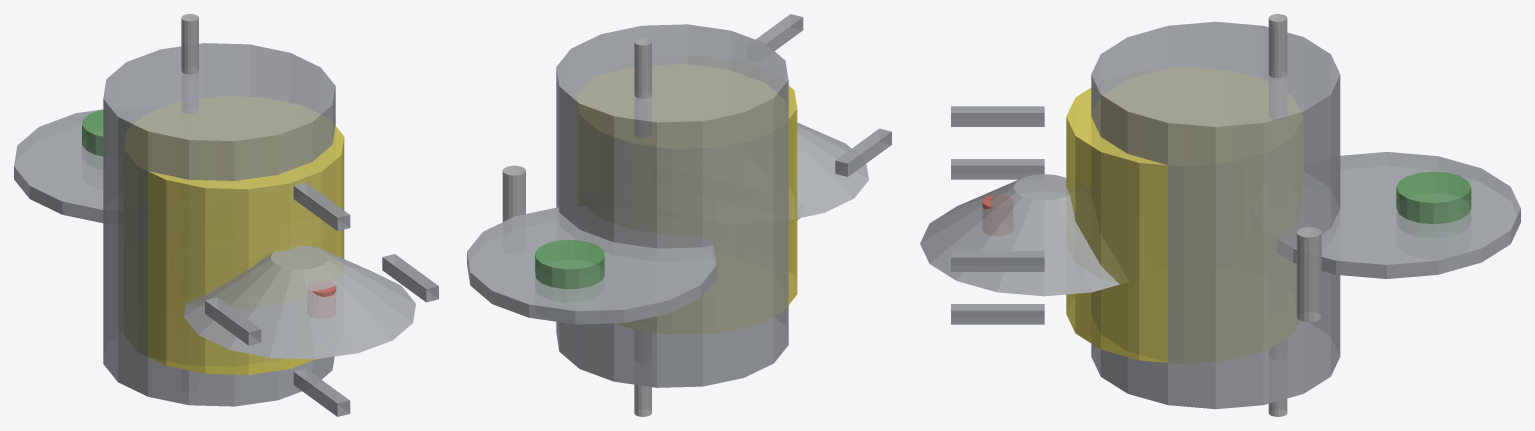
Rendered from leaching_tank.glb.
The picture shows the model from 3 angles, left to right: view 1: azimuth 30°, elevation 25°; view 2: azimuth 150°, elevation 25°; view 3: azimuth 270°, elevation 25°; orthographic projection. The views are drawn at different scales.
Visible parts, largest first — view 1: TankBody, Liquid, TankBottom, TankCap, AgitatorShaft, TankLeg_90, TankLeg_270, TankLeg_0, TankLeg_180, Motor, OutputValve; view 2: TankBody, Liquid, TankCap, TankBottom, Motor, AgitatorShaft, TankLeg_180, InputPipe, TankLeg_90; view 3: TankBody, Liquid, TankCap, TankBottom, Motor, AgitatorShaft, InputPipe, TankLeg_0, TankLeg_90, TankLeg_270, TankLeg_180, OutputValve.
Part boxes in pixels (left/top/right/bottom): TankBody: left=103, top=43, right=335, bottom=406; Liquid: left=124, top=96, right=344, bottom=374; TankBottom: left=184, top=245, right=415, bottom=359; TankCap: left=14, top=109, right=122, bottom=223; AgitatorShaft: left=181, top=14, right=198, bottom=113; TankLeg_90: left=293, top=183, right=350, bottom=231; TankLeg_270: left=293, top=368, right=350, bottom=416; TankLeg_0: left=382, top=254, right=438, bottom=302; TankLeg_180: left=205, top=297, right=261, bottom=345; Motor: left=82, top=110, right=103, bottom=168; OutputValve: left=308, top=281, right=336, bottom=318; TankBody: left=556, top=24, right=788, bottom=387; Liquid: left=577, top=65, right=797, bottom=334; TankCap: left=467, top=207, right=716, bottom=324; TankBottom: left=789, top=122, right=868, bottom=219; Motor: left=535, top=240, right=604, bottom=301; AgitatorShaft: left=634, top=38, right=651, bottom=416; TankLeg_180: left=835, top=128, right=891, bottom=176; InputPipe: left=502, top=165, right=525, bottom=221; TankLeg_90: left=756, top=14, right=803, bottom=50; TankBody: left=1091, top=21, right=1340, bottom=409; Liquid: left=1066, top=67, right=1302, bottom=363; TankCap: left=1277, top=152, right=1520, bottom=278; TankBottom: left=920, top=174, right=1128, bottom=296; Motor: left=1396, top=171, right=1471, bottom=237; AgitatorShaft: left=1268, top=14, right=1287, bottom=416; InputPipe: left=1296, top=227, right=1321, bottom=322; TankLeg_0: left=951, top=251, right=1044, bottom=271; TankLeg_90: left=951, top=106, right=1044, bottom=126; TankLeg_270: left=951, top=304, right=1044, bottom=324; TankLeg_180: left=951, top=159, right=1044, bottom=179; OutputValve: left=982, top=195, right=1012, bottom=235.
Bounding box in the file's own units: 9.2 × 14 × 19.3.
